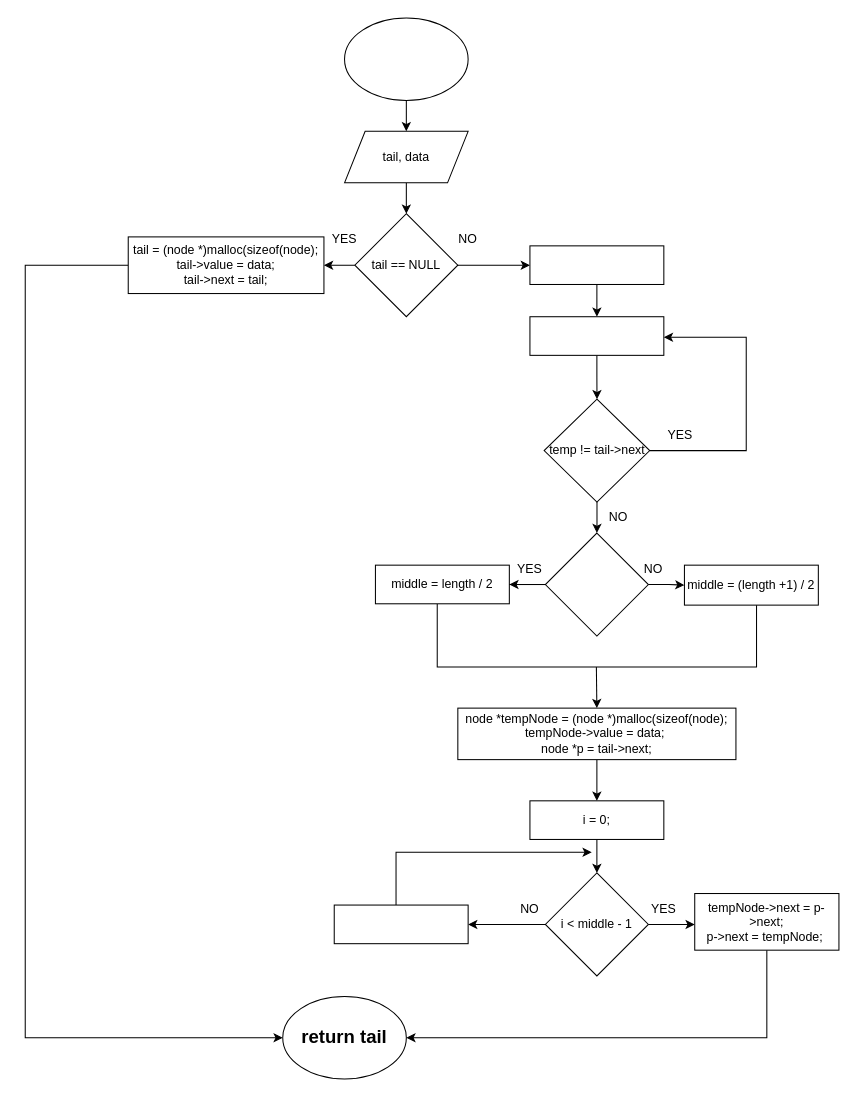
Image size: 857x1097. Some labels were removed from this diagram. The box of each missing label's shape, as (x1, y1, x2, y2) in pixels:
length % 2 == 0: (544, 532, 648, 636)
length = 0; node* temp = tail->next;: (529, 245, 664, 284)
length++; temp = temp->next: (529, 316, 664, 355)
p= p->next; i++;: (333, 904, 468, 944)
start: (344, 17, 468, 100)
